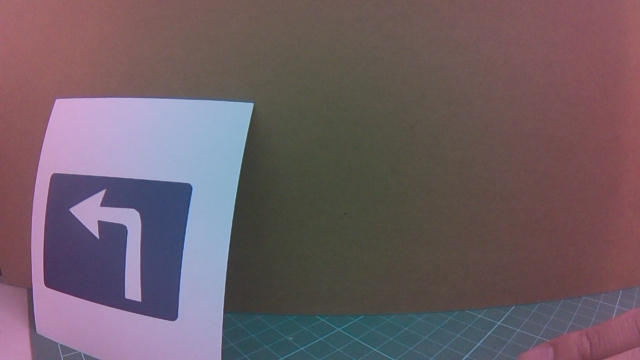left: (41, 151, 216, 322)
